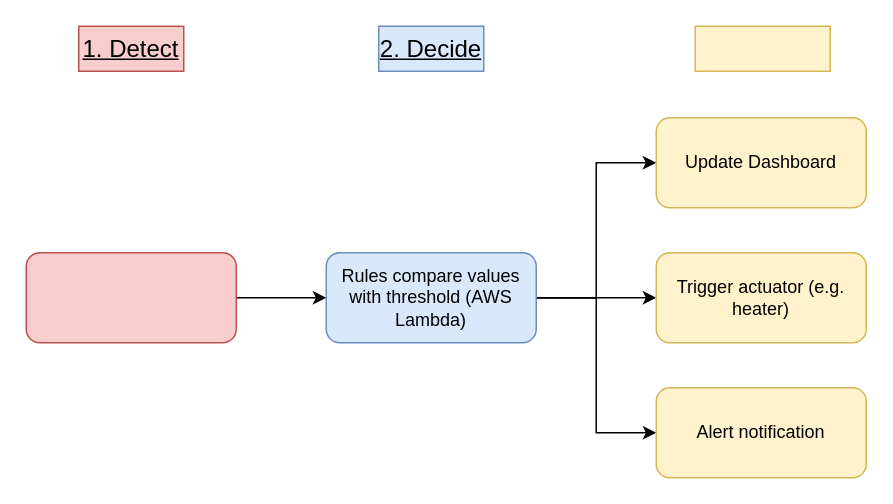
Some shapes in this 893 by 504 pixel diagram are drawn without their labels. Each missing label, with the centre of its shape:
"3. Respond" belongs at [762,48].
"New sensor reading arrives (AWS IoT Core)" belongs at [130,297].
